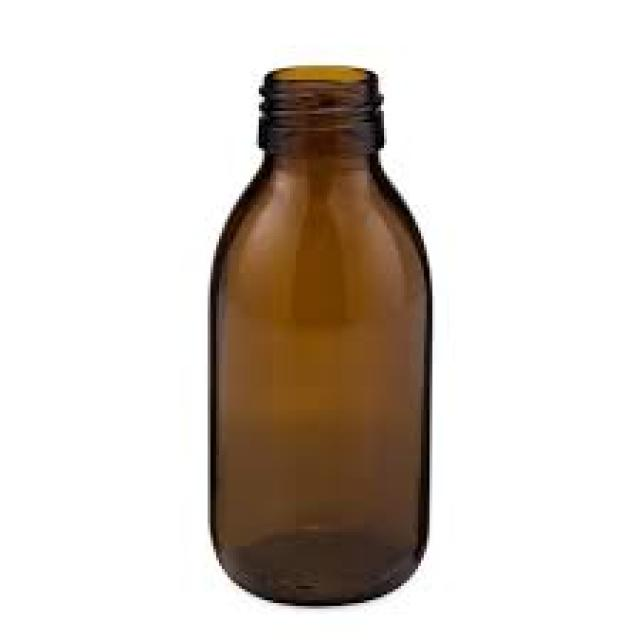glass: (210, 65, 427, 603)
